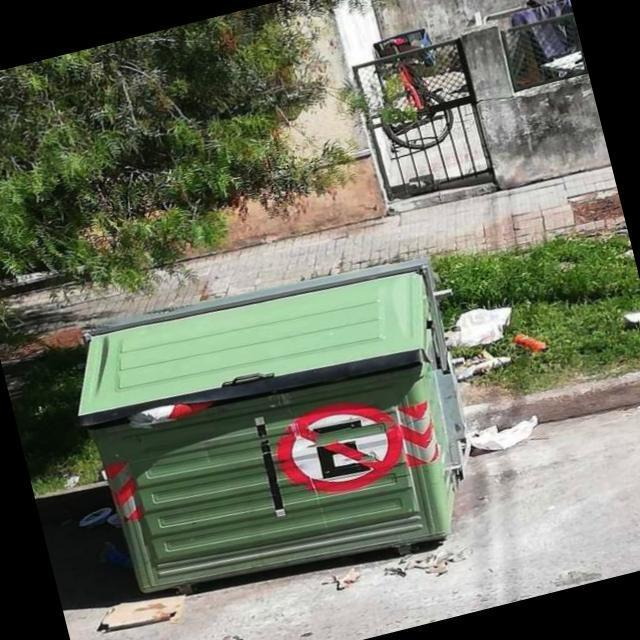garbage: (426, 272, 562, 474), (42, 484, 147, 616), (550, 233, 640, 360), (77, 580, 201, 640), (0, 311, 93, 385)
